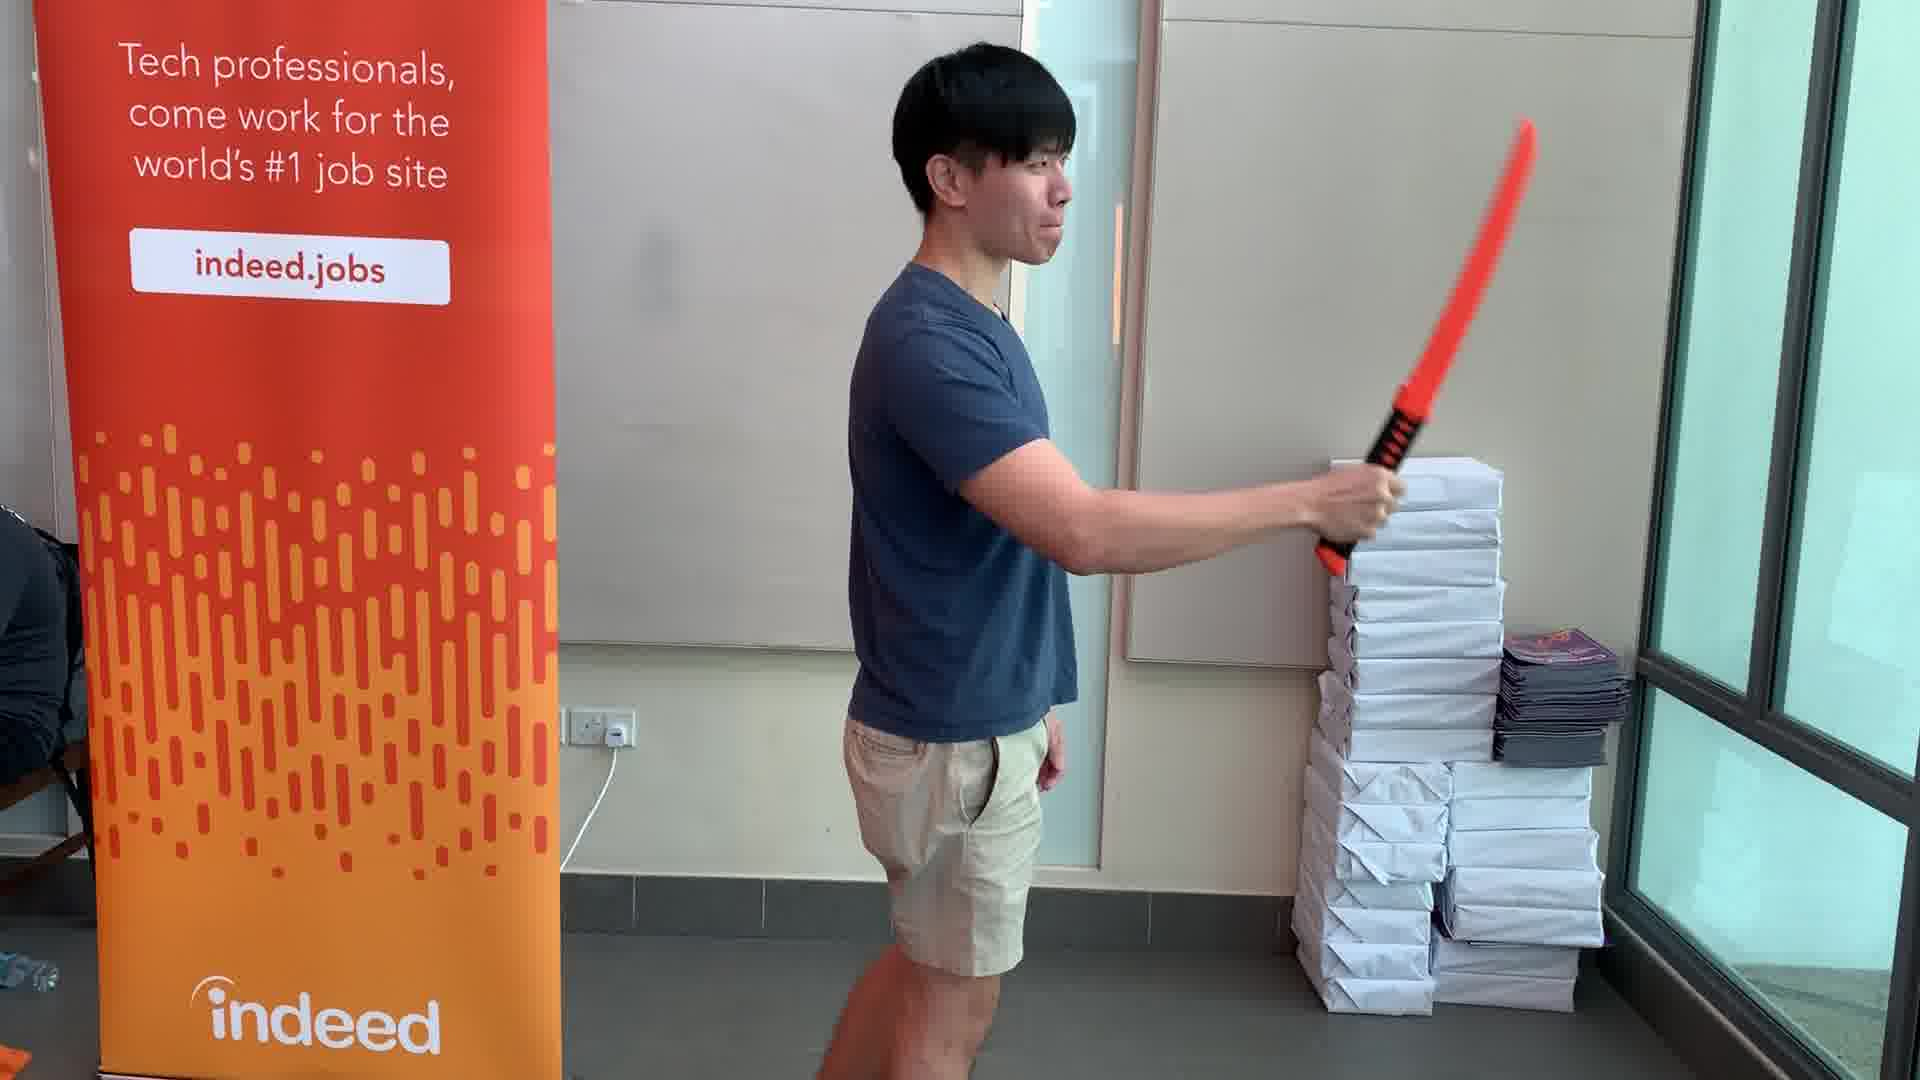knife: (1303, 111, 1548, 592)
